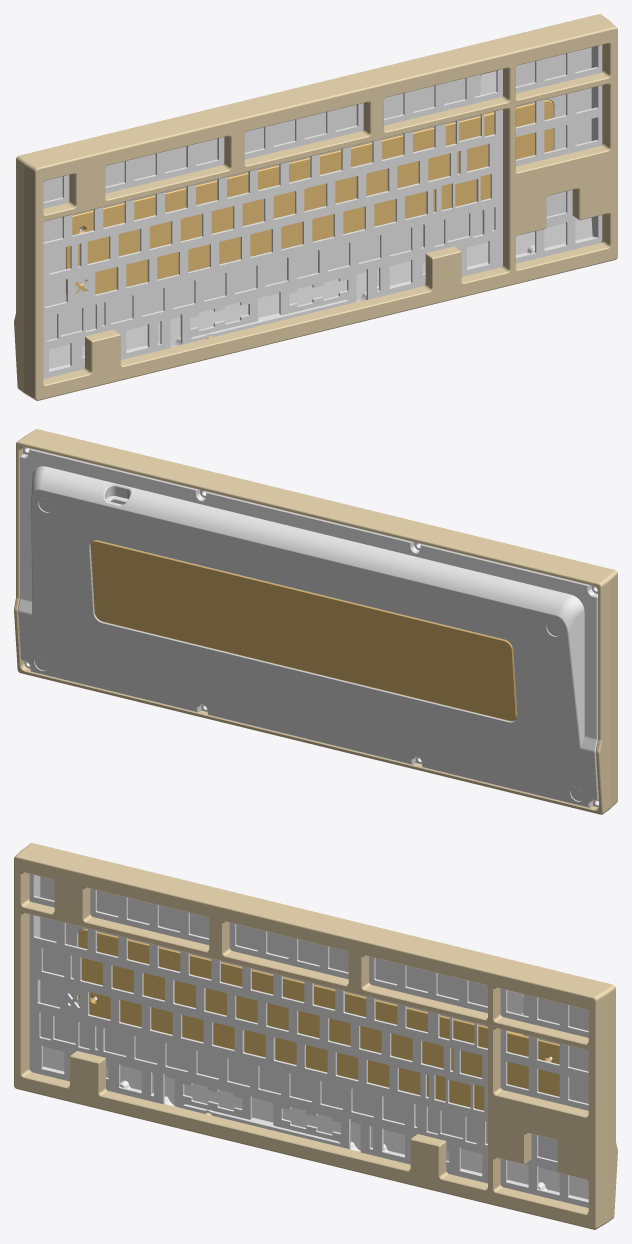
The model's file is yeri-dn.fbx.
The picture shows the model from 3 angles, top to bottom: view 1: azimuth 30°, elevation 25°; view 2: azimuth 150°, elevation 25°; view 3: azimuth 330°, elevation 25°; orthographic projection.
Visible parts, largest first — view 1: Top, Plate, Bottom, Weight; view 2: Bottom, Weight, Top; view 3: Top, Plate, Bottom, Weight.
Part boxes in pixels (x1,y1,x2,y2): Top: [14, 14, 617, 400]; Plate: [43, 45, 602, 378]; Bottom: [43, 46, 596, 370]; Weight: [66, 100, 553, 294]; Bottom: [18, 447, 598, 807]; Weight: [90, 540, 516, 721]; Top: [14, 429, 617, 814]; Top: [14, 843, 617, 1229]; Plate: [29, 874, 588, 1207]; Bottom: [35, 875, 588, 1200]; Weight: [78, 929, 559, 1110].
Size of the model in its own units: 361 by 137 by 30.34.
